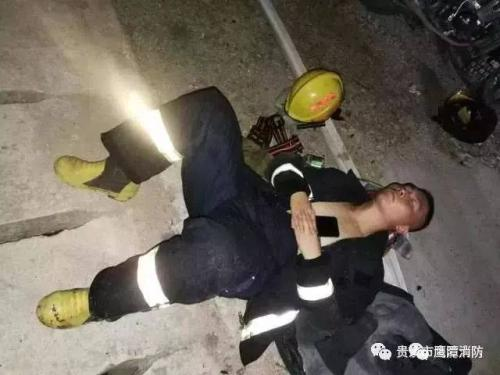fall: (21, 62, 434, 357)
